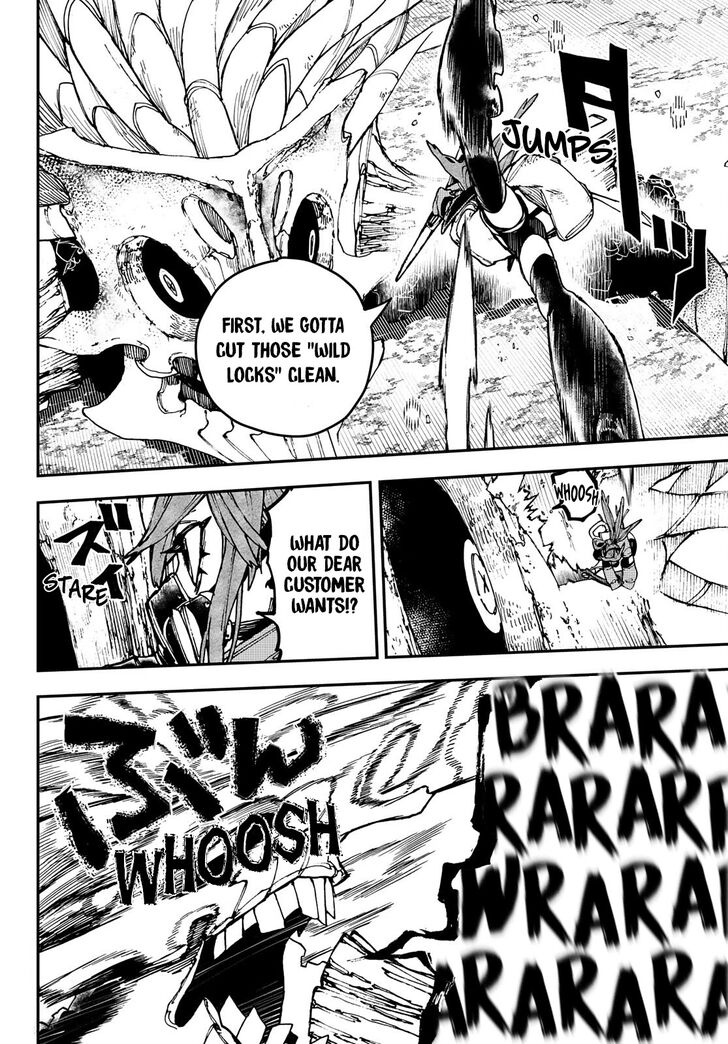bubble: (366, 668, 728, 1044), (196, 257, 392, 437), (257, 482, 378, 661), (553, 469, 599, 519)
